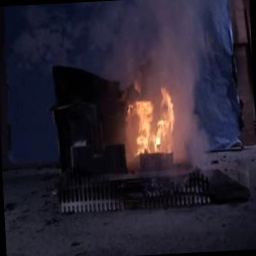fire: (124, 85, 180, 160)
